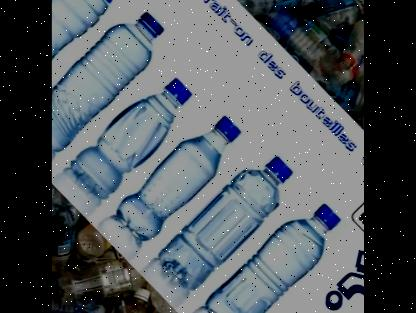Plastic Bottle: (53, 78, 190, 215), (158, 156, 292, 290), (51, 13, 162, 152), (116, 116, 240, 240), (205, 204, 339, 313)
